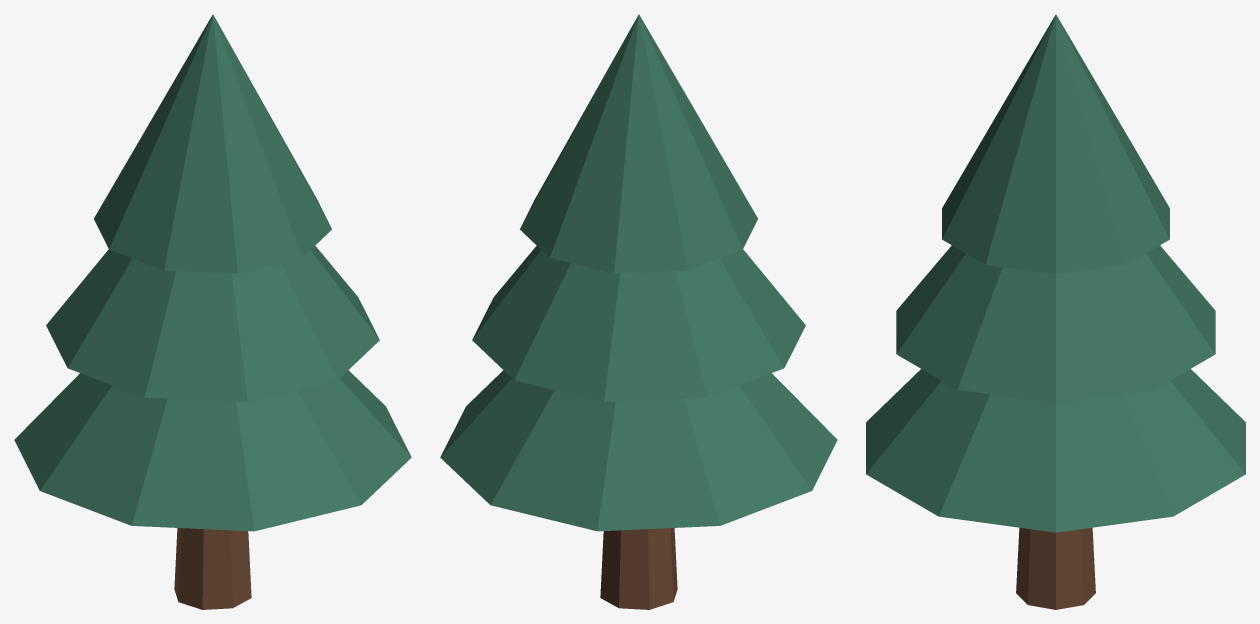
Rendered from pine.glb.
The picture shows the model from 3 angles, left to right: view 1: azimuth 30°, elevation 25°; view 2: azimuth 150°, elevation 25°; view 3: azimuth 270°, elevation 25°; orthographic projection.
Visible parts, largest first — view 1: pine; view 2: pine; view 3: pine.
Part boxes in pixels (<box>): pine: <box>14,14,411,609</box>; pine: <box>440,14,837,609</box>; pine: <box>866,14,1245,609</box>.
Size of the model in its own units: 2.5 by 4 by 2.38.
